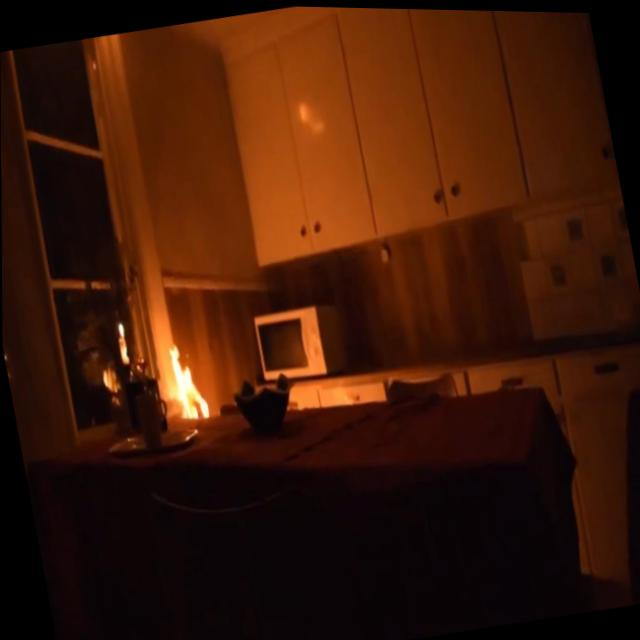fire: (161, 331, 214, 428), (116, 320, 125, 336)
